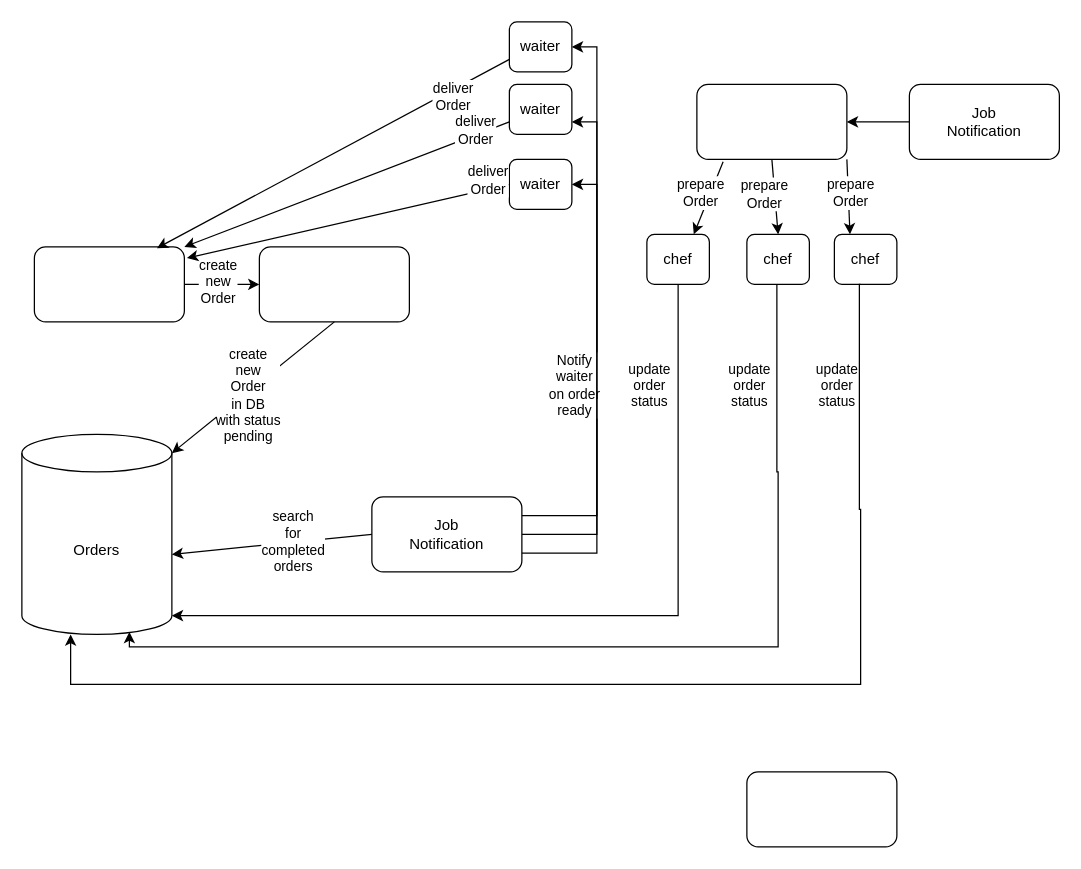
Image size: 1081x869. Some labels were removed from this diagram. Each missing label, with the centre of its shape:
"kitchen" goes at (x=771, y=121).
"order" goes at (x=333, y=284).
"payment" goes at (x=821, y=809).
"table" goes at (x=108, y=284).
